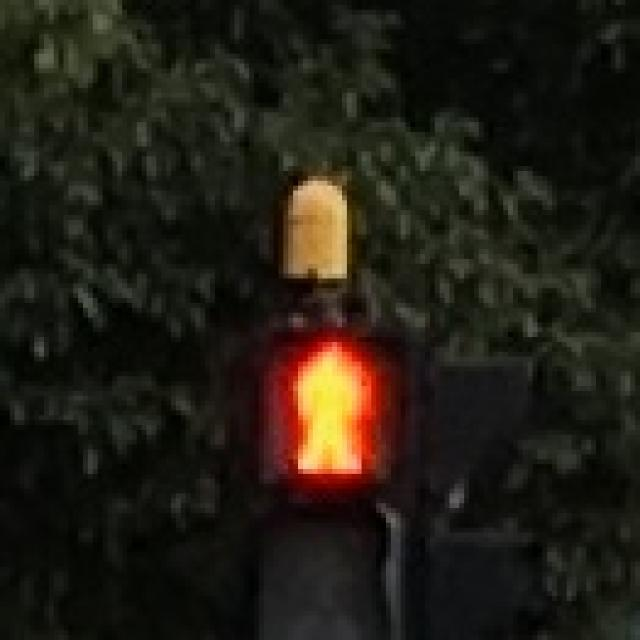red-crossing: (264, 327, 386, 484)
